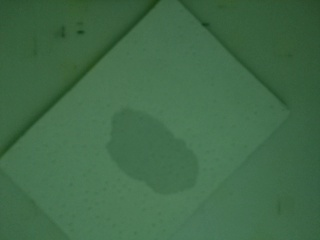Water_detected: (113, 118, 189, 188)
